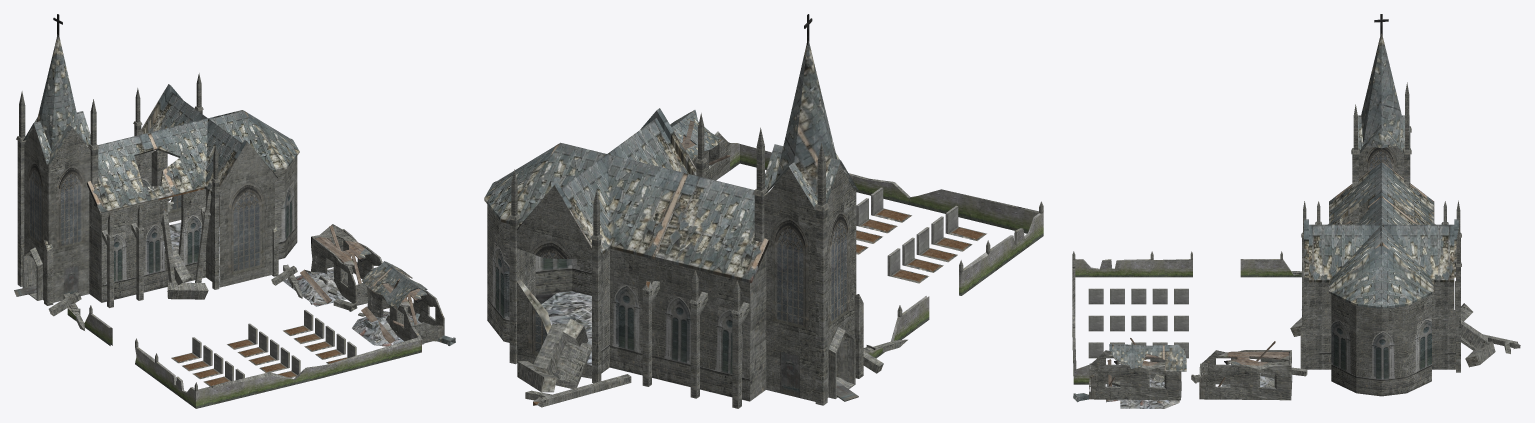
The model's file is church.obj.
The picture shows the model from 3 angles, left to right: view 1: azimuth 30°, elevation 25°; view 2: azimuth 150°, elevation 25°; view 3: azimuth 270°, elevation 25°; orthographic projection. The views are drawn at different scales.
Visible parts, largest first — view 1: kirche_friedhof:polySurface251; view 2: kirche_friedhof:polySurface251; view 3: kirche_friedhof:polySurface251.
Boxes of the visible parts, x1=… form: kirche_friedhof:polySurface251: x1=14, y1=14, x2=455, y2=408; kirche_friedhof:polySurface251: x1=484, y1=14, x2=1043, y2=408; kirche_friedhof:polySurface251: x1=1072, y1=14, x2=1520, y2=408.
Bounding box in the file's own units: 168 × 156 × 229.
1 material, 1 textured.
